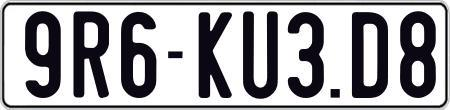3: (287, 12, 329, 104)
6: (120, 10, 161, 102)
8: (398, 10, 432, 98)
9: (25, 10, 65, 102)
D: (351, 12, 391, 103)
K: (196, 10, 235, 101)
R: (73, 10, 109, 102)
U: (242, 11, 282, 104)
